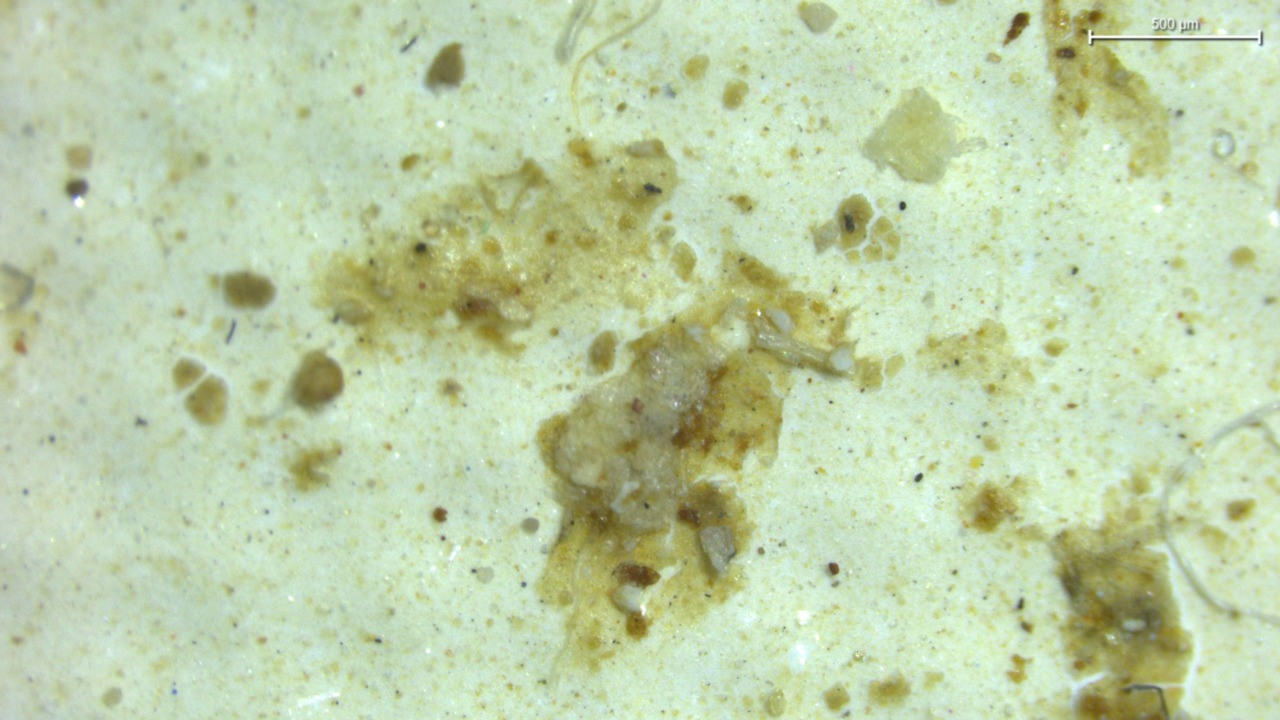microplastic_fragment: (863, 88, 959, 182), (828, 347, 854, 373)
